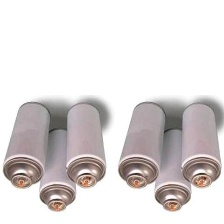aerosol_cans: (116, 100, 170, 188), (1, 99, 52, 192), (176, 98, 222, 191), (62, 101, 107, 191), (152, 125, 193, 214), (37, 125, 78, 213)
